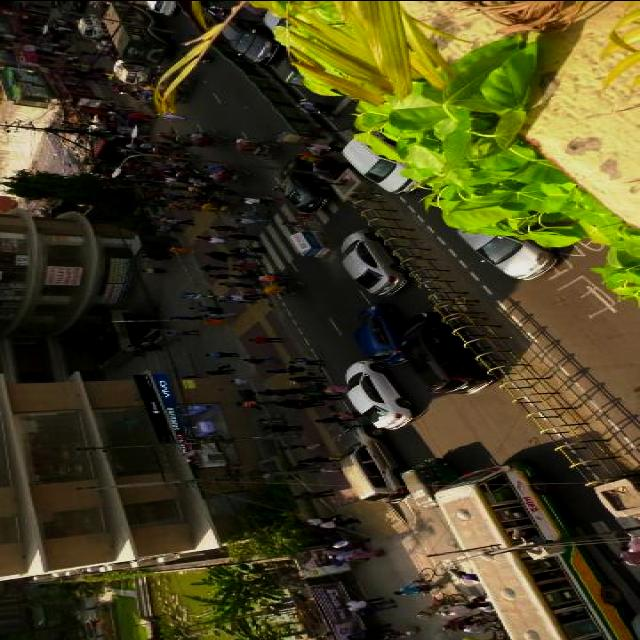car: (338, 357, 414, 431), (334, 227, 412, 297), (329, 425, 402, 494), (349, 303, 407, 368)
motorcycle: (400, 455, 460, 482), (262, 269, 306, 297)
truck: (393, 310, 498, 399)
